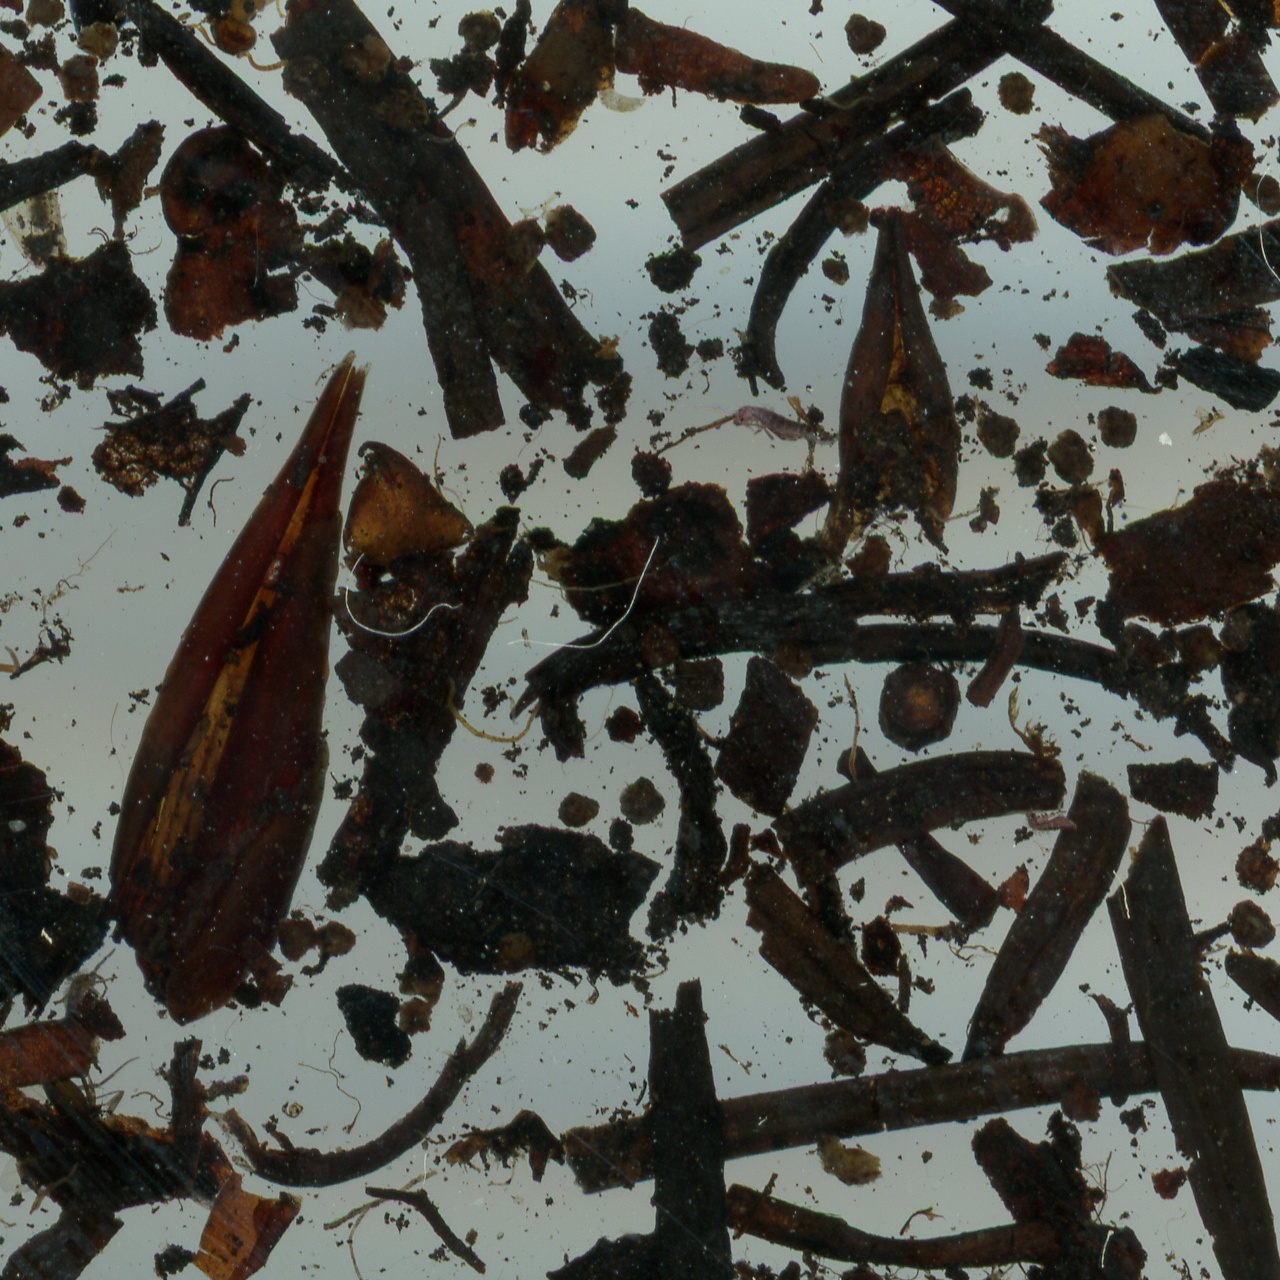arthropod: (192, 0, 335, 73), (0, 517, 25, 727), (727, 403, 839, 444), (64, 947, 122, 1014), (1021, 808, 1077, 833)
